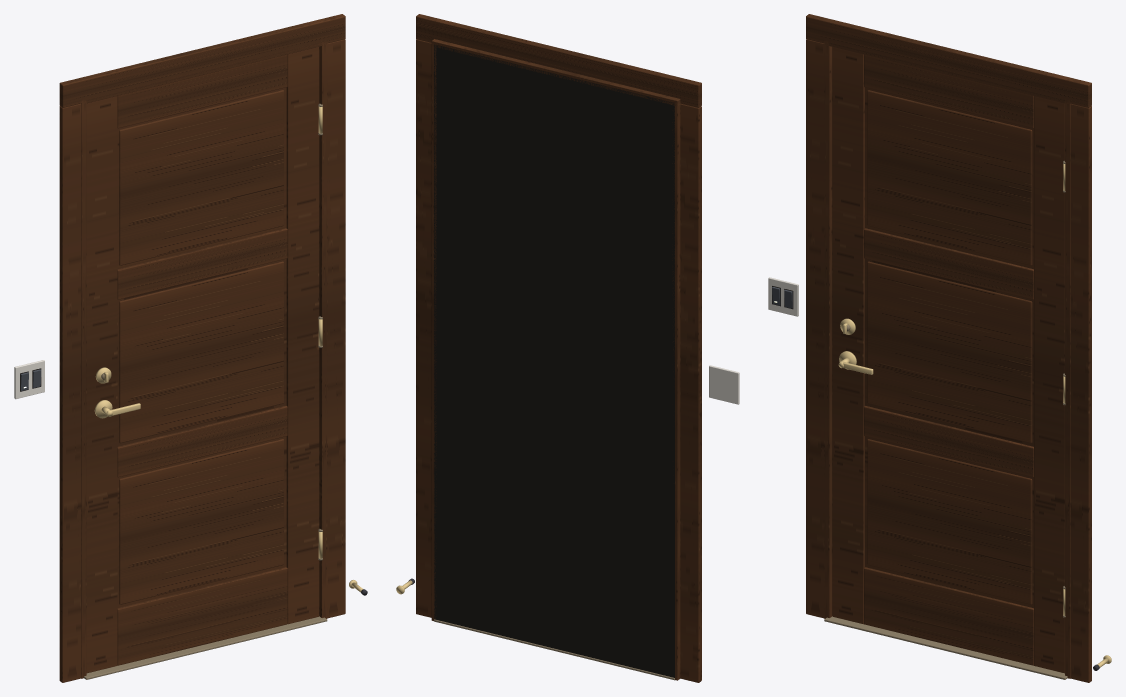
The model's file is office_door.glb.
3 renders of one model, left to right at view 1: azimuth 30°, elevation 25°; view 2: azimuth 150°, elevation 25°; view 3: azimuth 330°, elevation 25°, orthographic.
Parts seen in each view (by area): view 1: Door_PanelInsert_1, Door_PanelInsert_2, Door_PanelInsert_0, Door_StileR, Door_StileL, Door_CasingL, Door_CasingR, Door_RailBot, Door_CasingTop, Door_RailTop, Door_PanelCore, Door_RailMid2 (+6 smaller); view 2: Door_RecessBack, Door_CasingL, Door_CasingR, Door_CasingTop, Door_JambL, Door_JambR, Door_JambTop, WallSwitch_Plate, Door_Threshold; view 3: Door_PanelInsert_1, Door_PanelInsert_2, Door_PanelInsert_0, Door_StileL, Door_StileR, Door_CasingR, Door_CasingL, Door_RailBot, Door_CasingTop, Door_RailTop, Door_RailMid1, Door_RailMid2 (+6 smaller).
Boxes of the visible parts, x1,y1,x2,y2 form: Door_PanelInsert_1: (119, 261, 283, 443); Door_PanelInsert_2: (119, 90, 283, 265); Door_PanelInsert_0: (119, 439, 283, 604); Door_StileR: (286, 47, 319, 624); Door_StileL: (86, 96, 117, 673); Door_CasingL: (59, 103, 80, 682); Door_CasingR: (327, 39, 345, 618); Door_RailBot: (117, 567, 287, 665); Door_CasingTop: (59, 14, 345, 107); Door_RailTop: (117, 54, 287, 128); Door_PanelCore: (117, 87, 286, 607); Door_RailMid2: (117, 228, 287, 299); Door_RecessBack: (434, 44, 674, 677); Door_CasingL: (680, 103, 701, 682); Door_CasingR: (416, 39, 431, 617); Door_CasingTop: (416, 14, 701, 107); Door_JambL: (672, 101, 680, 680); Door_JambR: (431, 43, 436, 620); Door_JambTop: (431, 39, 680, 105); WallSwitch_Plate: (709, 365, 739, 404); Door_Threshold: (434, 619, 674, 680); Door_PanelInsert_1: (867, 261, 1032, 443); Door_PanelInsert_2: (867, 90, 1032, 265); Door_PanelInsert_0: (867, 439, 1032, 604); Door_StileL: (832, 46, 864, 624); Door_StileR: (1034, 96, 1064, 673); Door_CasingR: (1070, 103, 1091, 682); Door_CasingL: (806, 39, 824, 618); Door_RailBot: (864, 567, 1033, 665); Door_CasingTop: (806, 14, 1091, 107); Door_RailTop: (864, 54, 1033, 128); Door_RailMid1: (864, 406, 1033, 477); Door_RailMid2: (864, 228, 1033, 299).
Bounding box in the file's own units: 1.33 × 2.22 × 0.087.
10 materials, 3 textured.
